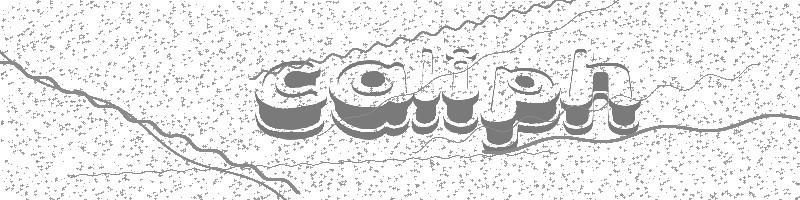a: (330, 59, 412, 141)
c: (257, 59, 328, 140)
h: (561, 46, 640, 136)
i: (442, 47, 479, 135)
l: (413, 47, 441, 135)
p: (481, 63, 561, 154)
